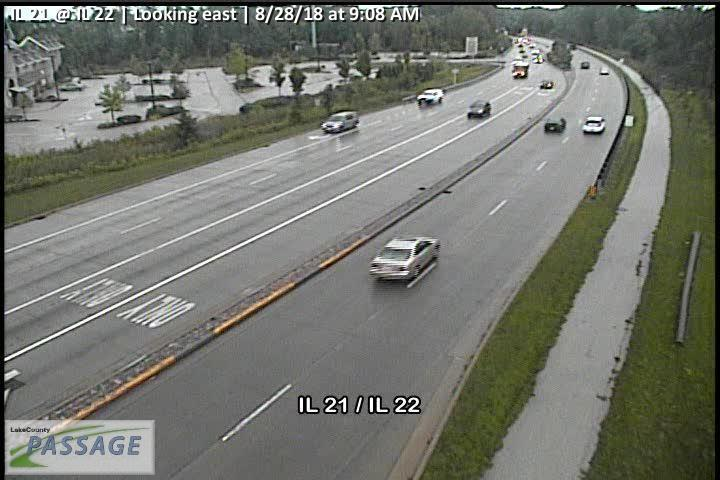SUV: (320, 111, 359, 132), (467, 99, 492, 119), (416, 88, 444, 105), (581, 116, 606, 134)
Sedan: (368, 235, 441, 280), (544, 116, 567, 133), (539, 80, 554, 89)
Truck: (511, 61, 529, 78)
